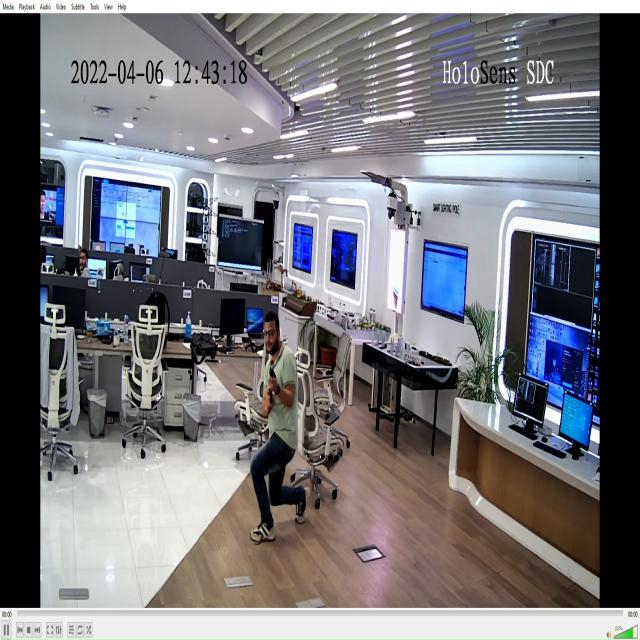long weapon: (266, 362, 277, 407)
